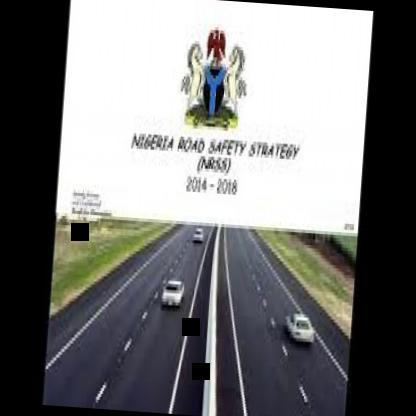car: (281, 294, 318, 374), (154, 266, 190, 330), (189, 217, 208, 247)
